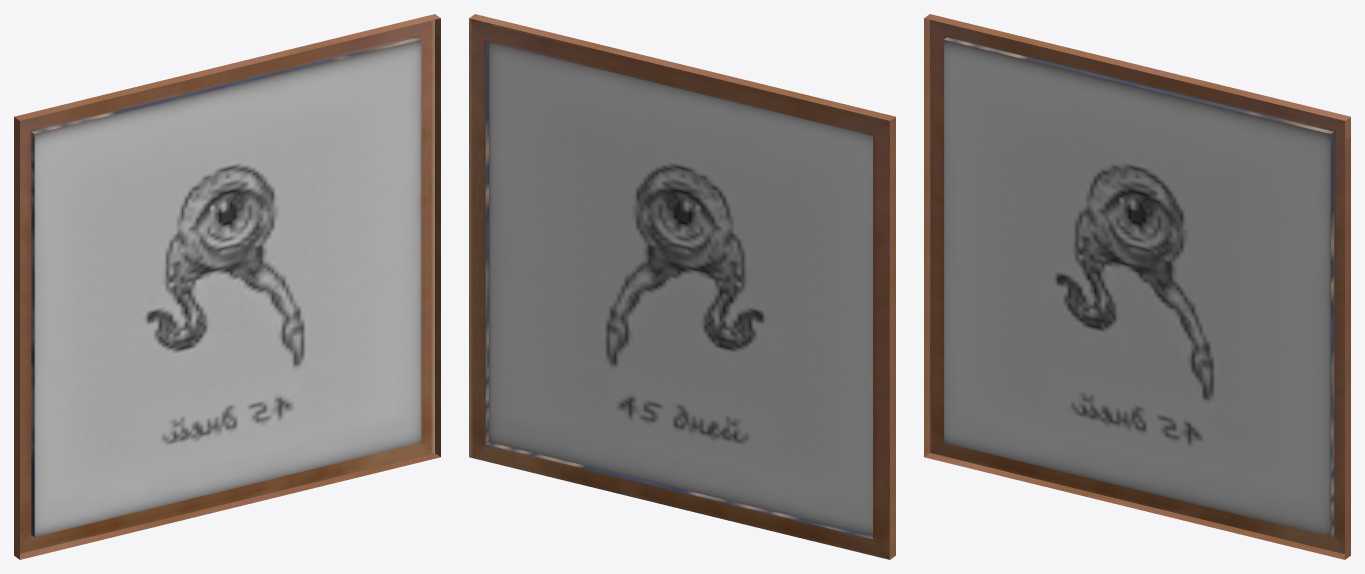
Rendered from ExportLibraryMonsterSketch_02.FBX.
3 renders of one model, left to right at view 1: azimuth 30°, elevation 25°; view 2: azimuth 150°, elevation 25°; view 3: azimuth 330°, elevation 25°, orthographic.
Parts seen in each view (by area): view 1: library_sketch_02; view 2: library_sketch_02; view 3: library_sketch_02.
Part boxes in pixels (x1,y1,x2,y2): library_sketch_02: (14,14,440,559); library_sketch_02: (469,14,895,559); library_sketch_02: (924,14,1350,559).
Bounding box in the file's own units: 33.85 × 0.8172 × 33.74.
